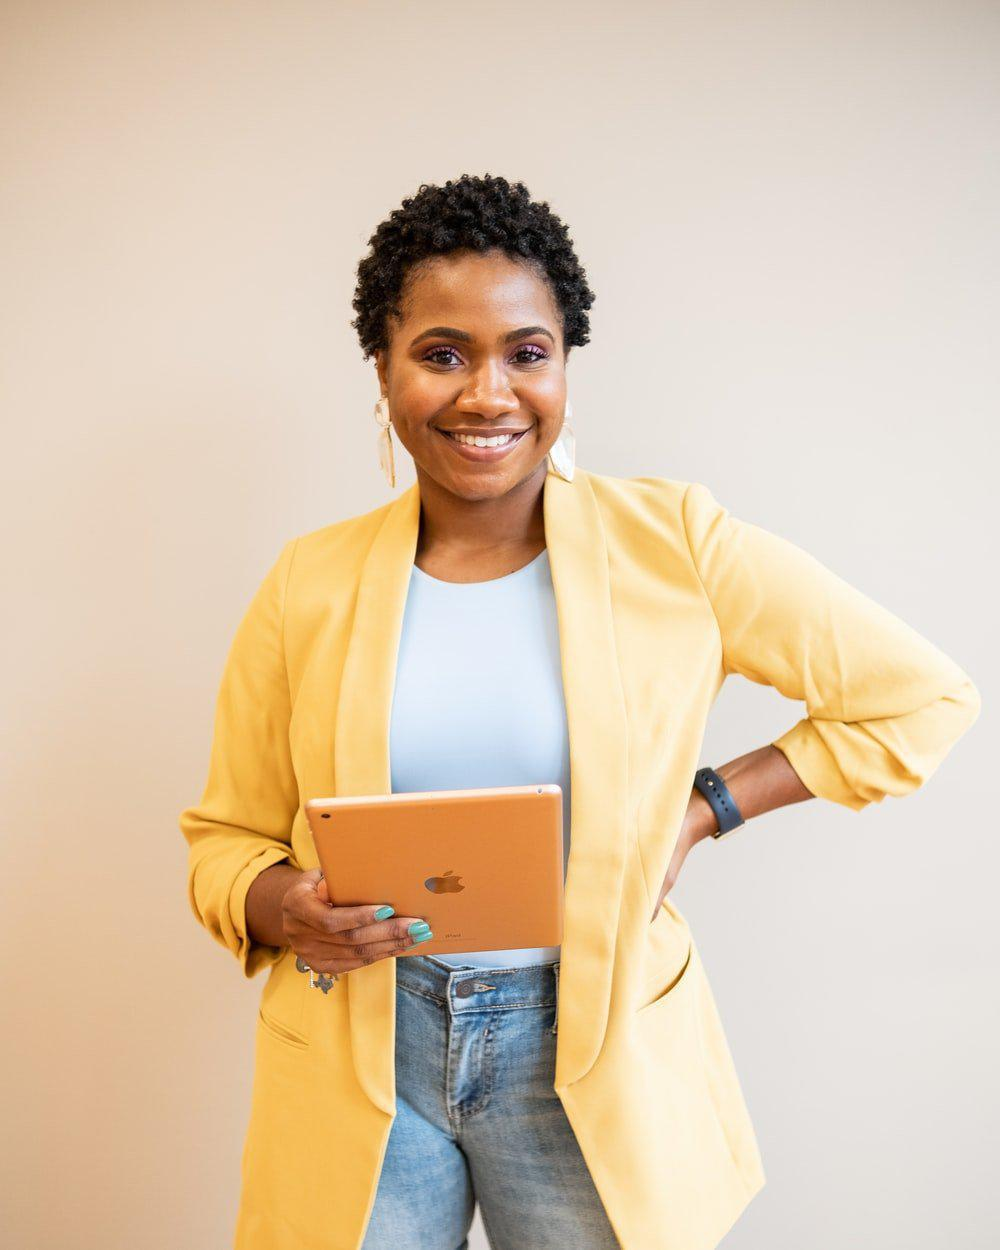Sober: (391, 263, 565, 493)
